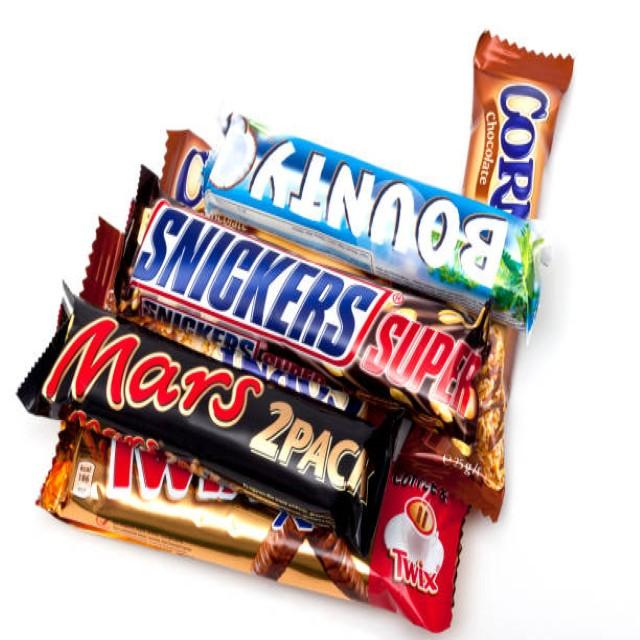mars_chocolate: (57, 325, 368, 495)
snickers_chocolate: (107, 188, 508, 380)
